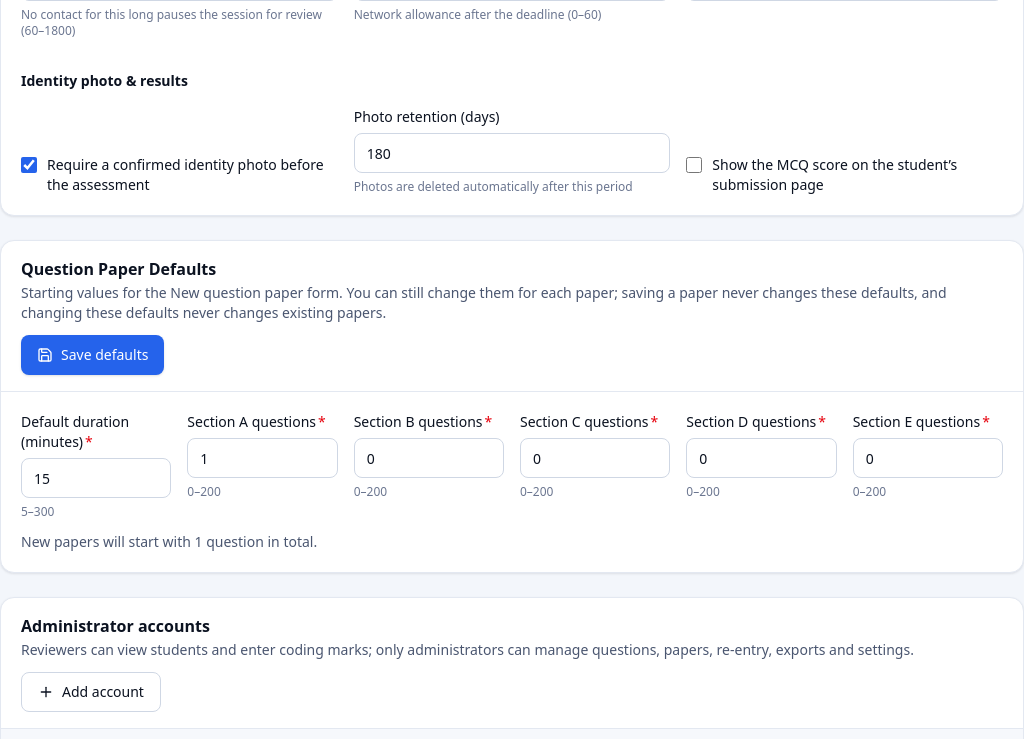
Test: Settings: Question Paper Defaults › shows the server’s validation message when a value is rejected
The width and height of the screenshot is (1024, 739).
(page scrolled)
Expected: the number field labelled "Default duration (minutes)*" is shown, [21, 458, 171, 498]
Click the button "Save defaults" at (93, 355), box [21, 335, 164, 375]
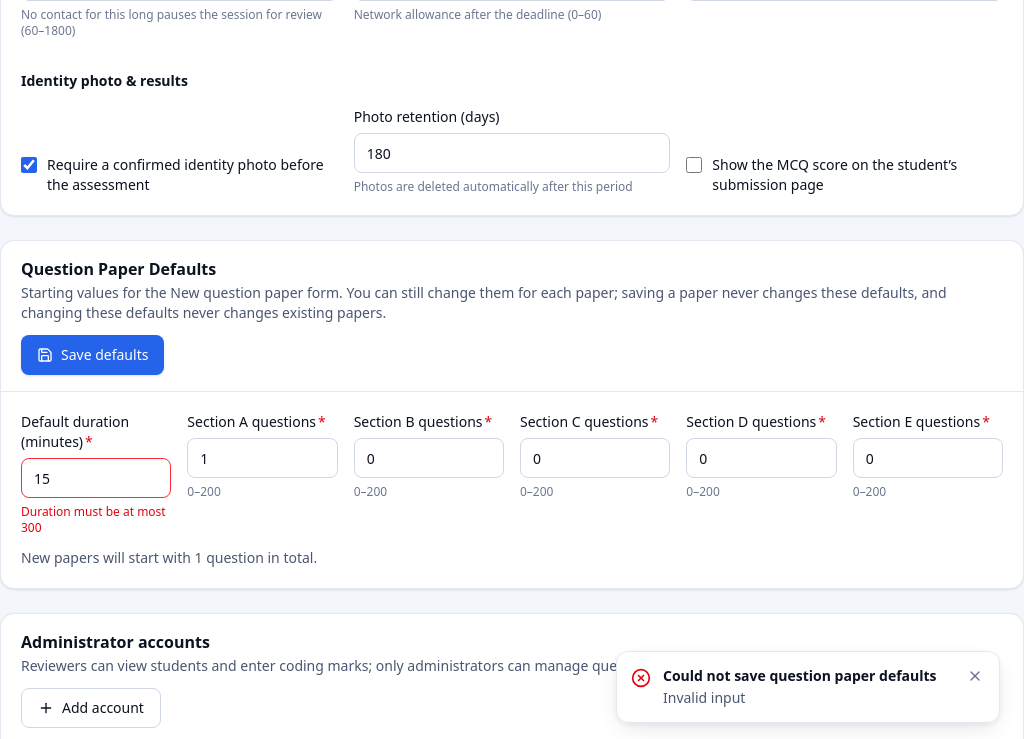
Now the text "Duration must be at most 300" is shown, box [21, 504, 171, 536]
Now the text "Could not save question paper defaults" is shown, box [663, 666, 953, 686]
